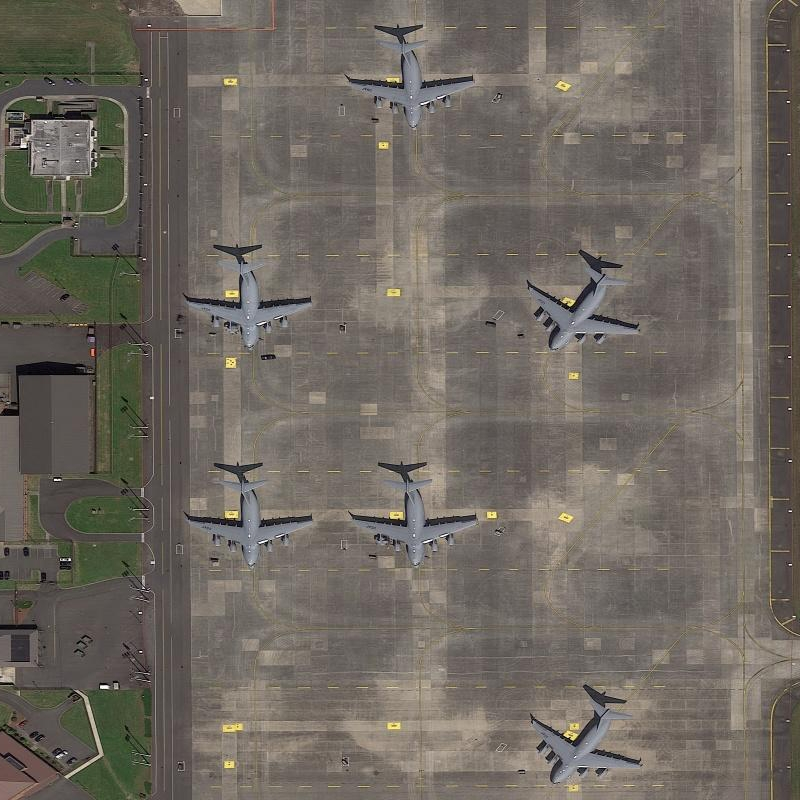A3: (176, 246, 320, 353), (341, 29, 481, 136), (342, 473, 481, 573), (518, 248, 642, 360), (178, 470, 317, 569), (521, 685, 652, 787)
